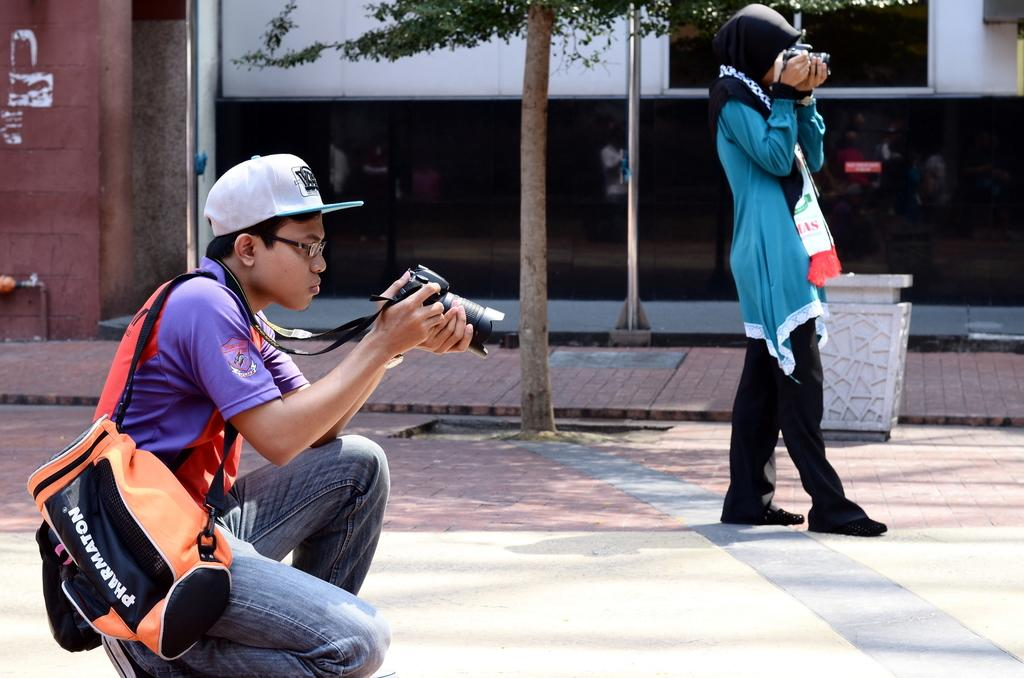Hat: (204, 155, 362, 238)
